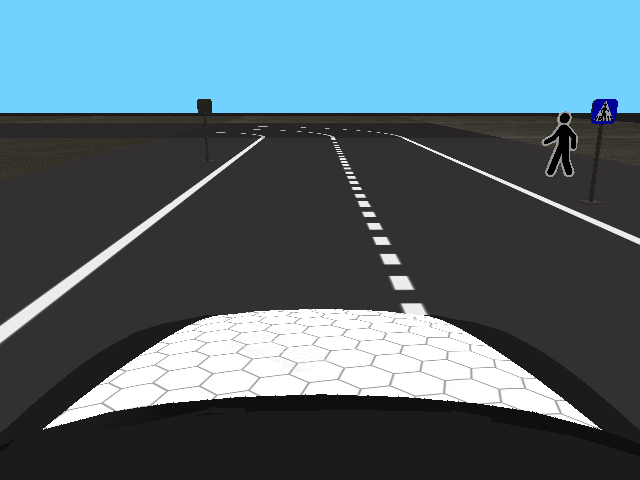pedestrian: (541, 111, 579, 177)
